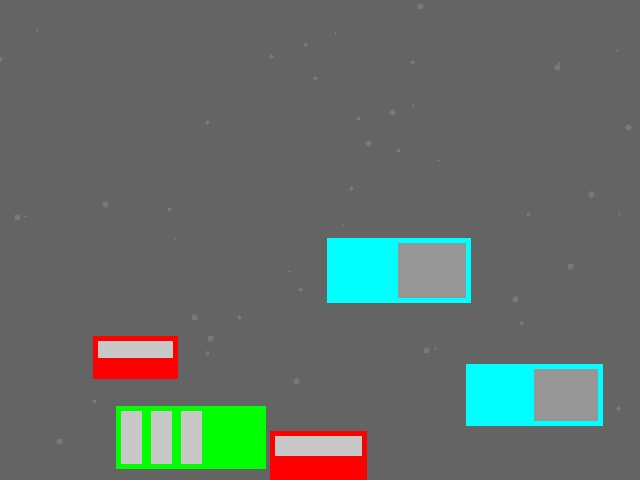bus: (116, 406, 265, 468)
car: (270, 431, 366, 479), (93, 336, 177, 378)
truck: (327, 238, 470, 302), (466, 364, 602, 425)
